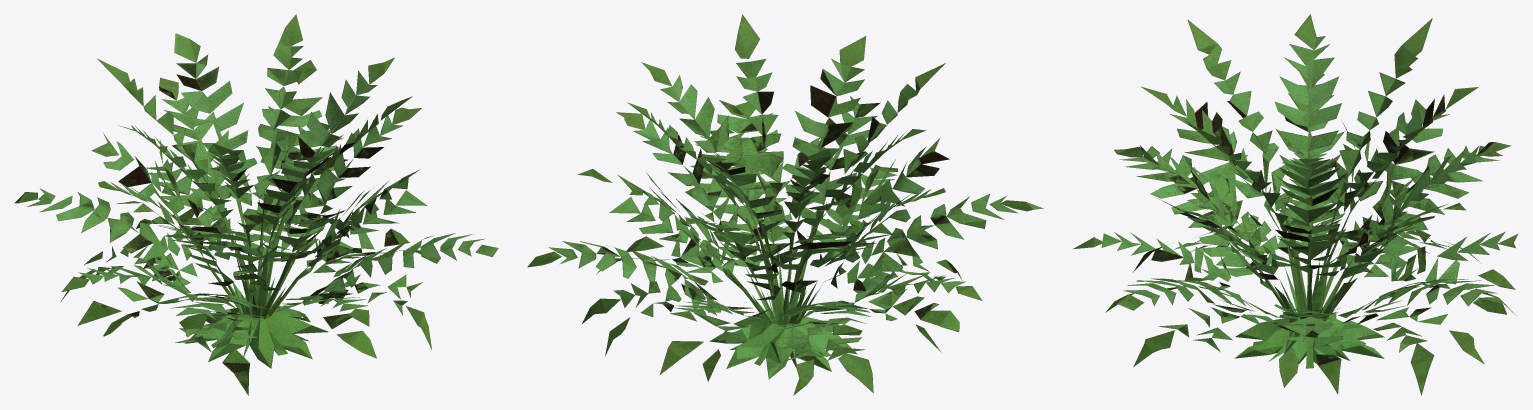
The model's file is Fern.glb.
3 views of the same model, side by side, from view 1: azimuth 30°, elevation 25°; view 2: azimuth 150°, elevation 25°; view 3: azimuth 270°, elevation 25° (orthographic). The views are drawn at different scales.
Bounding box in the file's own units: 1.17 × 0.8 × 1.16.
Materials: 1 (1 with a texture image).
